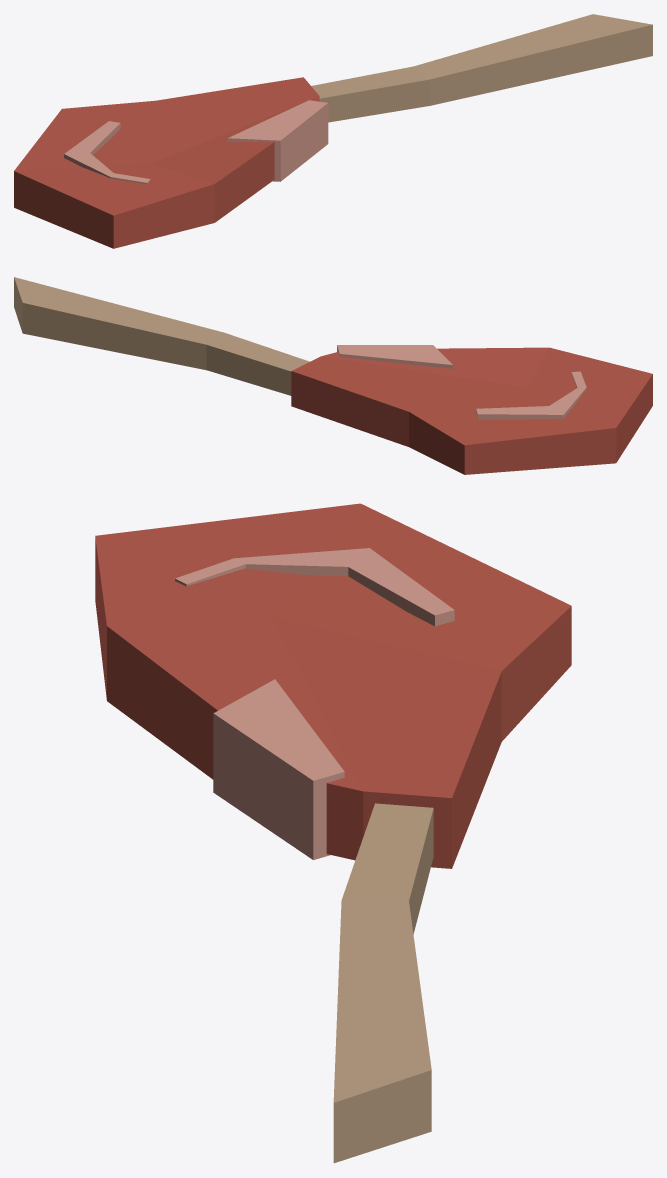
File: tomahawk01.fbx
The picture shows the model from 3 angles, top to bottom: view 1: azimuth 30°, elevation 25°; view 2: azimuth 150°, elevation 25°; view 3: azimuth 270°, elevation 25°; orthographic projection. The views are drawn at different scales.
Visible parts, largest first — view 1: tomahawk01; view 2: tomahawk01; view 3: tomahawk01.
Boxes of the visible parts, bbox=[...] form: tomahawk01: bbox=[14, 14, 652, 248]; tomahawk01: bbox=[14, 277, 652, 474]; tomahawk01: bbox=[95, 503, 571, 1163].
Bounding box in the file's own units: 55.14 × 3.52 × 18.68.
Materials: 1 (1 with a texture image).
